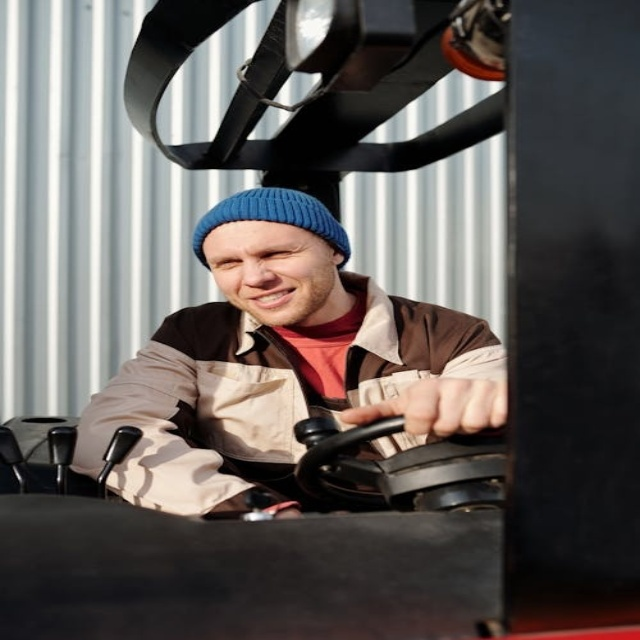Sin_gafas: (207, 236, 303, 272)
Sin_guantes: (337, 375, 508, 440)
Sin_mascara: (242, 281, 307, 328)
